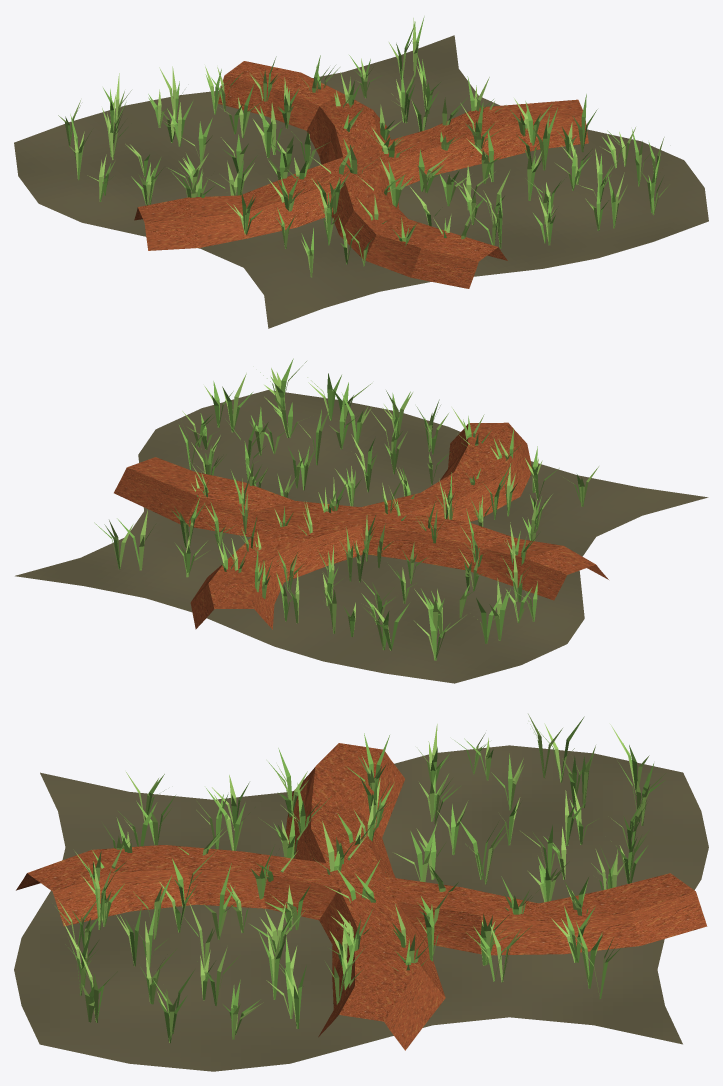
Rendered from KeralaPaddy_Natural_v2.glb.
3 renders of one model, top to bottom at view 1: azimuth 30°, elevation 25°; view 2: azimuth 150°, elevation 25°; view 3: azimuth 270°, elevation 25°, orthographic. The views are drawn at different scales.
Visible parts, largest first — view 1: Paddy_Rice_Dense, Varambu_Straight_NS, Varambu_Straight_EW, Paddy_Rice_Sparse; view 2: Paddy_Rice_Dense, Varambu_Straight_EW, Varambu_Straight_NS, Paddy_Rice_Sparse; view 3: Paddy_Rice_Dense, Varambu_Straight_NS, Varambu_Straight_EW, Paddy_Rice_Sparse.
Part boxes in pixels (<box>): Paddy_Rice_Dense: <box>14,16,708,328</box>; Varambu_Straight_NS: <box>217,61,507,288</box>; Varambu_Straight_EW: <box>134,99,588,250</box>; Paddy_Rice_Sparse: <box>69,24,669,266</box>; Paddy_Rice_Dense: <box>15,358,708,683</box>; Varambu_Straight_EW: <box>114,457,608,600</box>; Varambu_Straight_NS: <box>190,422,532,629</box>; Paddy_Rice_Sparse: <box>117,372,546,650</box>; Paddy_Rice_Dense: <box>14,714,708,1071</box>; Varambu_Straight_NS: <box>16,845,707,955</box>; Varambu_Straight_EW: <box>286,743,445,1050</box>; Paddy_Rice_Sparse: <box>55,716,665,1043</box>.
Bounding box in the file's own units: 4.8 × 0.495 × 4.32.
5 materials, 3 textured.
